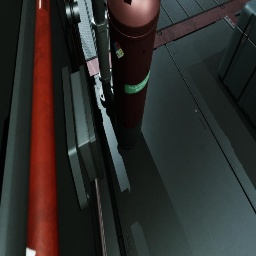NitrogenTank ,: (106, 0, 161, 150)
